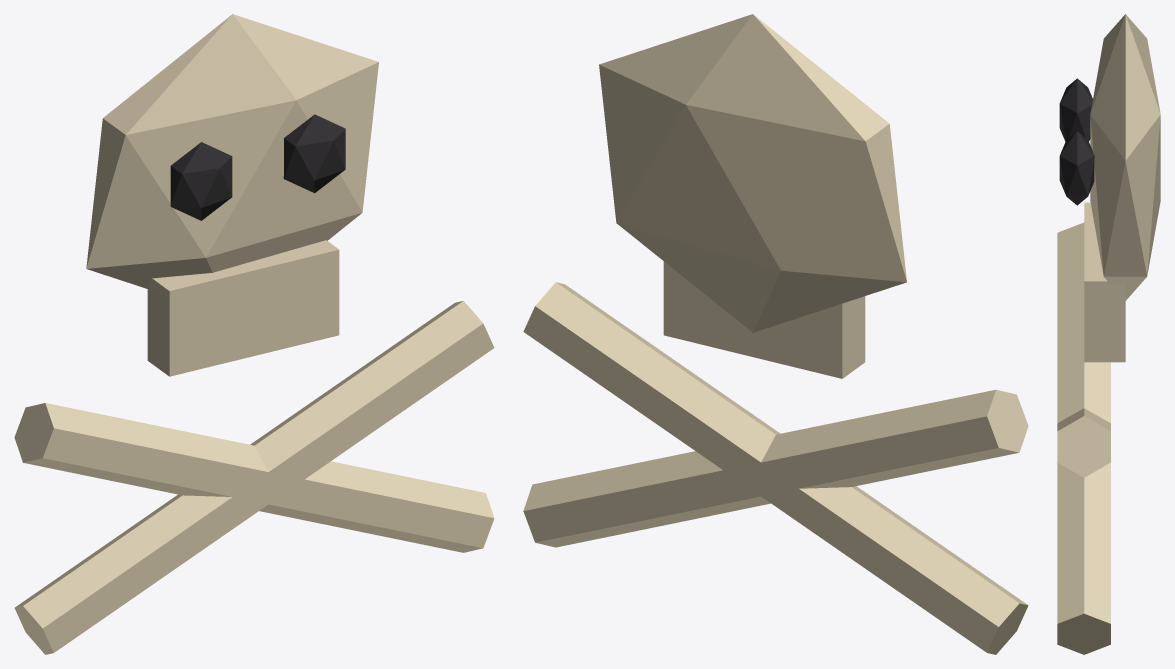
Rendered from pirate_emblem.glb.
3 renders of one model, left to right at view 1: azimuth 30°, elevation 25°; view 2: azimuth 150°, elevation 25°; view 3: azimuth 270°, elevation 25°, orthographic. The views are drawn at different scales.
Parts seen in each view (by area): view 1: skull, crossbones, crossbones.001, skull jaw, skull eye, skull eye.001; view 2: skull, crossbones, crossbones.001, skull jaw; view 3: crossbones.001, skull, skull jaw, crossbones, skull eye.001, skull eye.
Boxes of the visible parts, x1=… form: skull: x1=86, y1=14, x2=378, y2=288; crossbones: x1=14, y1=301, x2=494, y2=654; crossbones.001: x1=14, y1=403, x2=494, y2=552; skull jaw: x1=147, y1=240, x2=339, y2=376; skull eye: x1=170, y1=142, x2=232, y2=220; skull eye.001: x1=283, y1=114, x2=345, y2=193; skull: x1=599, y1=14, x2=906, y2=332; crossbones: x1=523, y1=282, x2=1028, y2=654; crossbones.001: x1=523, y1=389, x2=1028, y2=547; skull jaw: x1=663, y1=261, x2=865, y2=378; crossbones.001: x1=1057, y1=222, x2=1110, y2=654; skull: x1=1090, y1=14, x2=1160, y2=300; skull jaw: x1=1084, y1=202, x2=1125, y2=362; crossbones: x1=1057, y1=408, x2=1110, y2=477; skull eye.001: x1=1059, y1=131, x2=1094, y2=205; skull eye: x1=1059, y1=78, x2=1092, y2=141.
Size of the model in its own units: 0.1471 by 0.1743 by 0.03.
